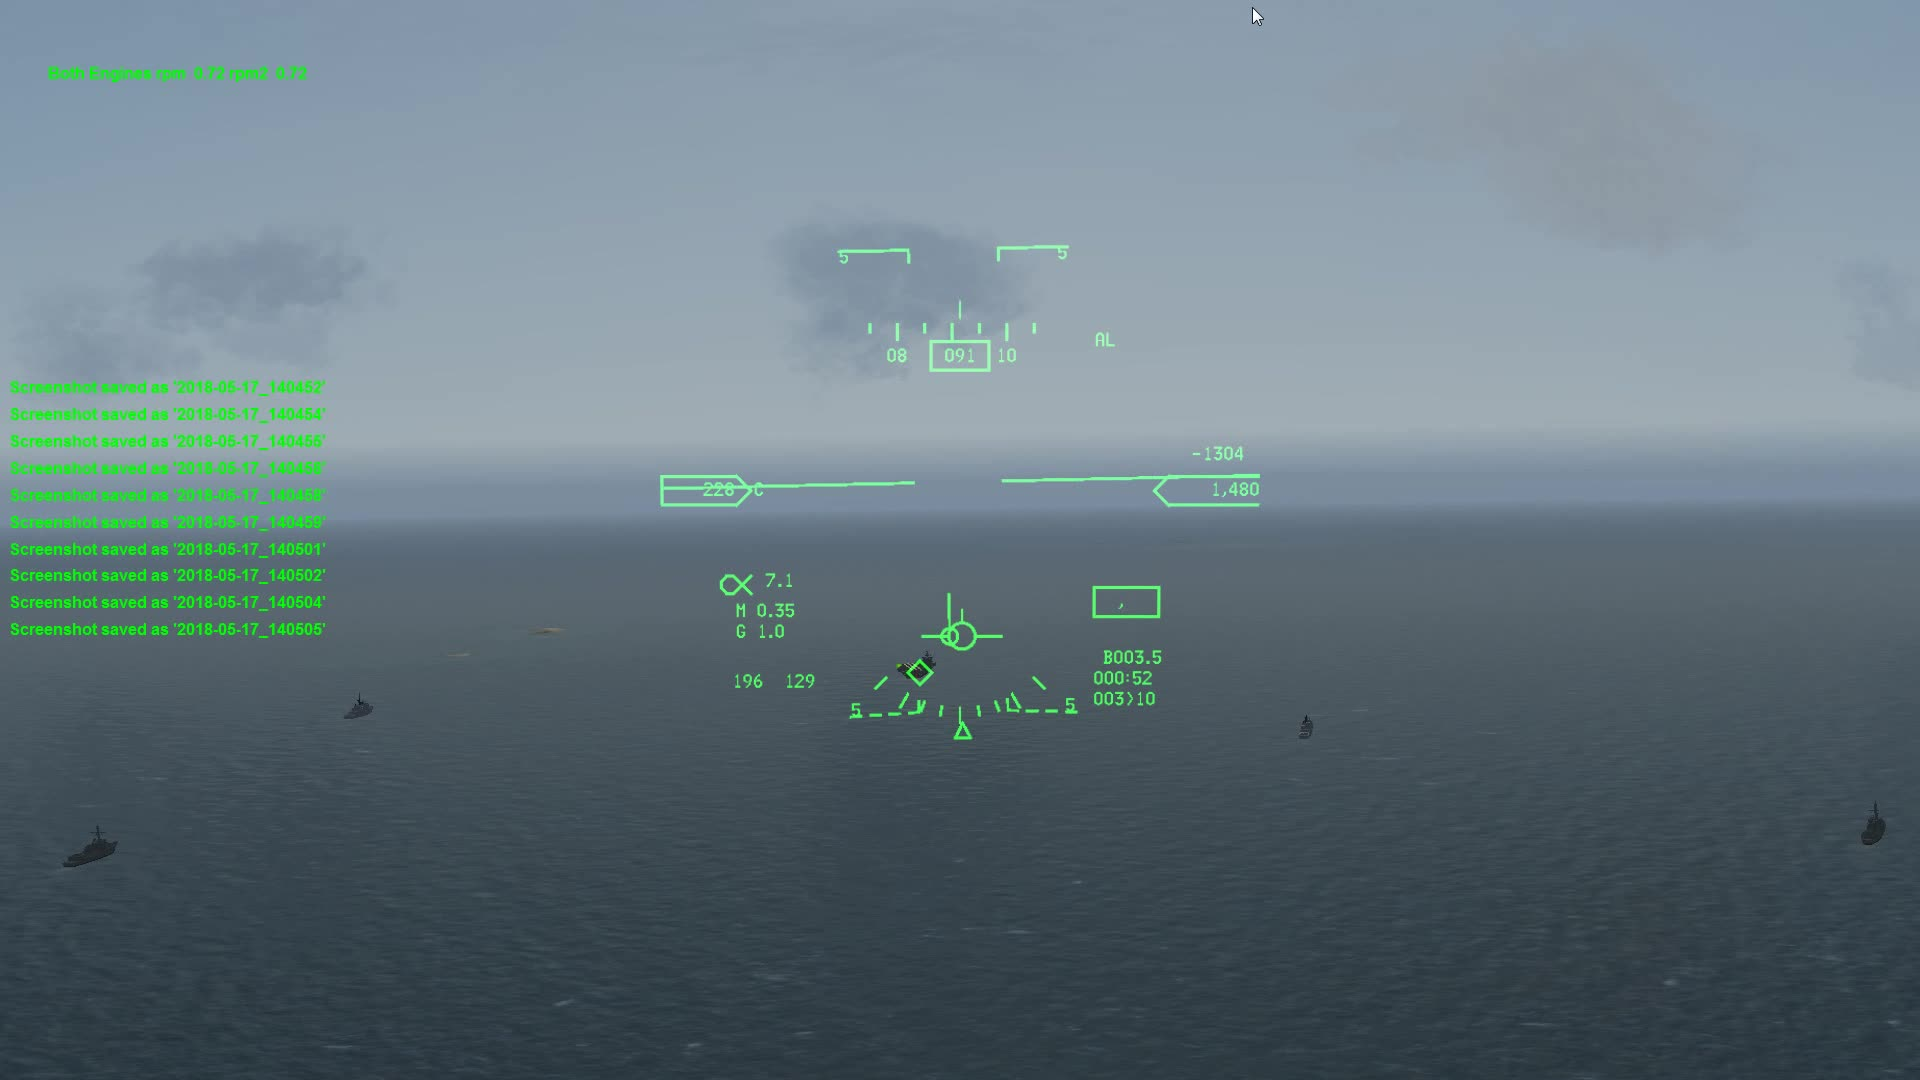speed vector: (924, 585, 1009, 659)
